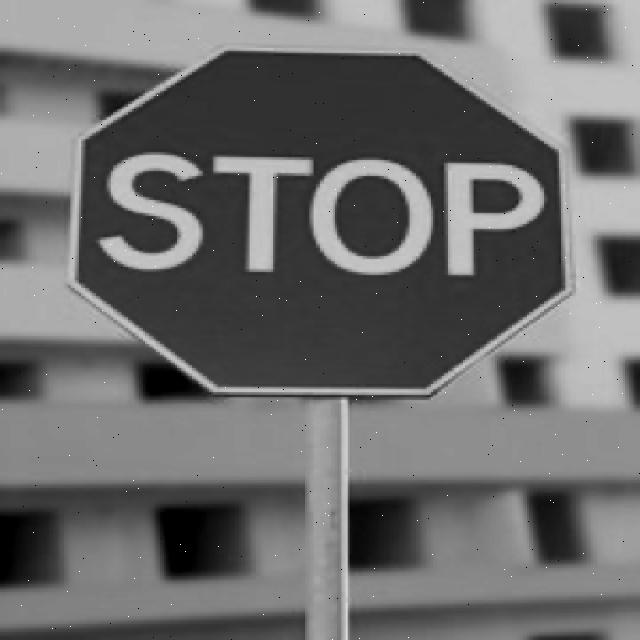Stop-signs: (69, 47, 570, 393)
